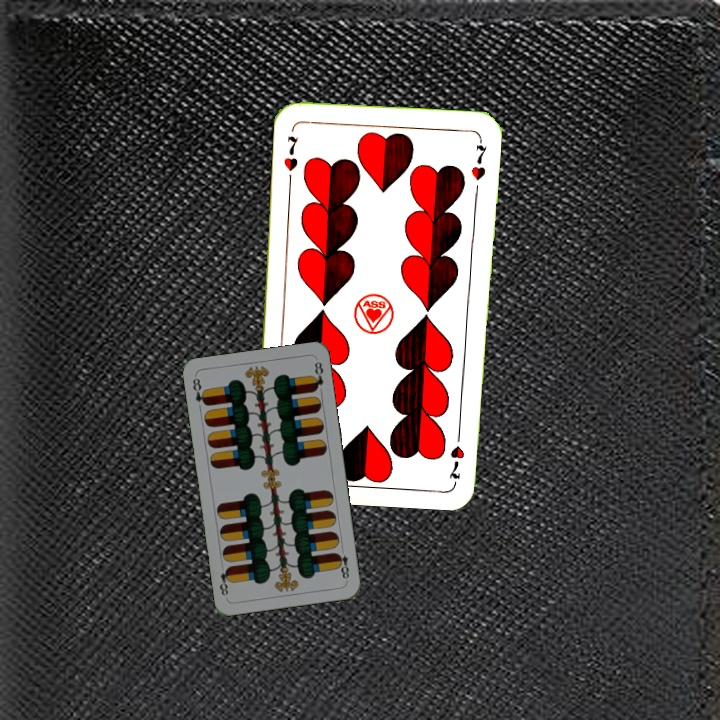E8: (188, 374, 210, 408), (332, 549, 352, 583)
H7: (447, 425, 467, 484), (279, 131, 301, 173)
